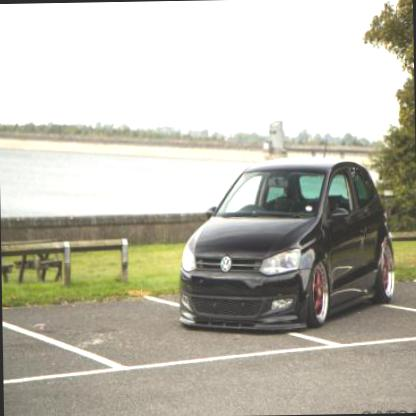car: (177, 150, 396, 338)
